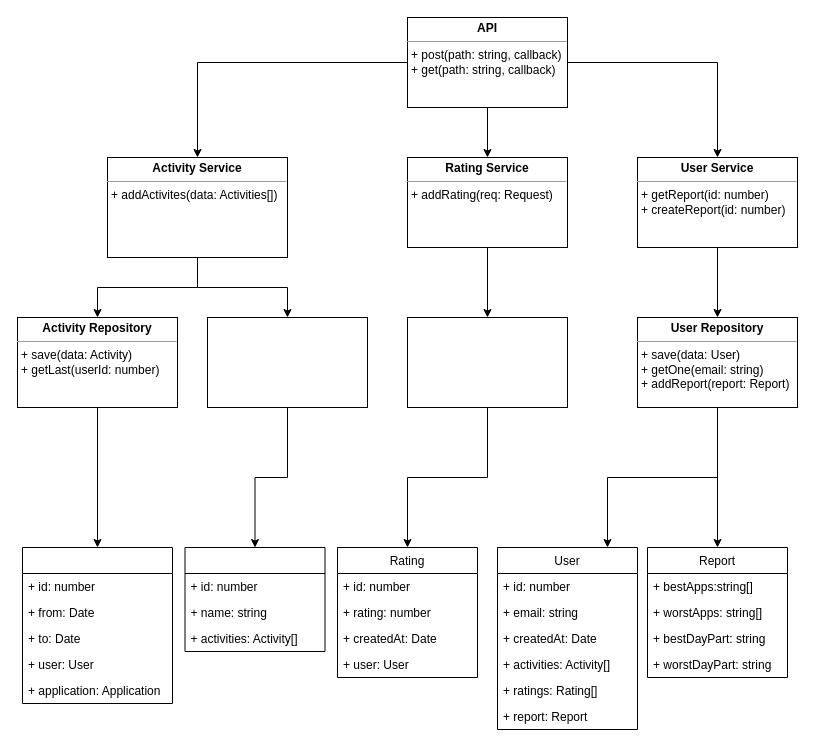
The diagram is 815 pixels wide and 750 high, and some of its shapes have lost their labels. Each missing label, with the box of its shape:
Activity: (22, 546, 172, 704)
Application: (184, 546, 325, 652)
Application Repository + save(data: Application) + getAll() + getOne(id: number): (206, 316, 368, 408)
Rating Repository + save(data: Rating): (406, 316, 568, 408)
